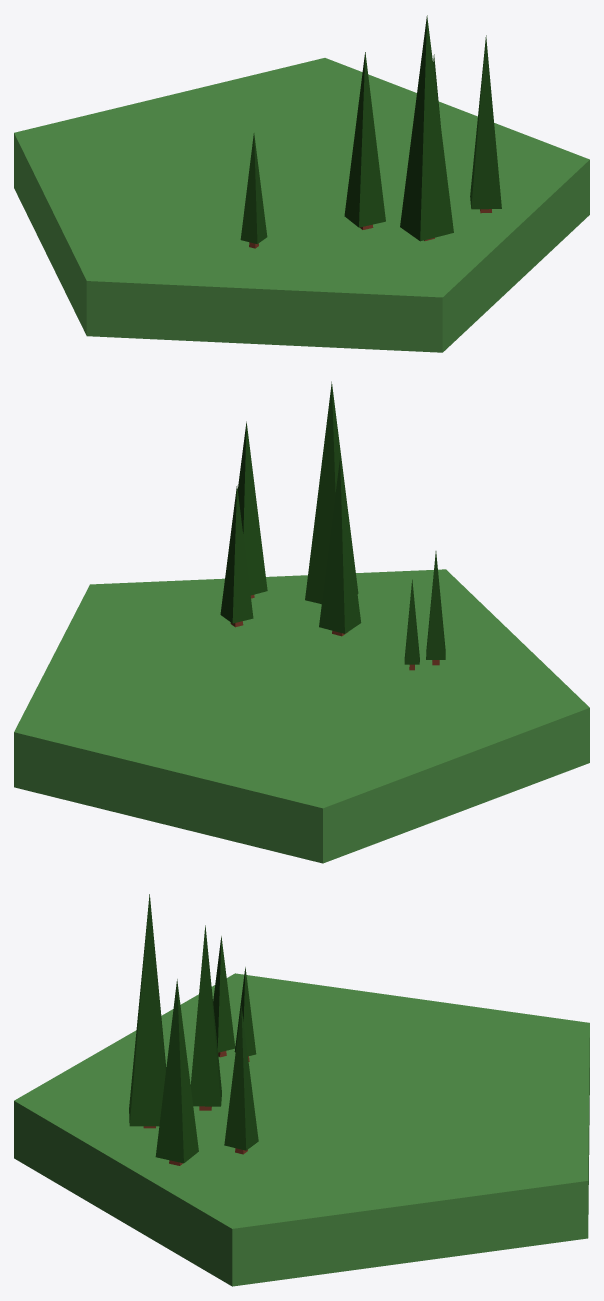
Rendered from Planet_Green_Pentagon (1).fbx.
3 views of the same model, one above another, from view 1: azimuth 30°, elevation 25°; view 2: azimuth 150°, elevation 25°; view 3: azimuth 270°, elevation 25° (orthographic). The views are drawn at different scales.
Parts seen in each view (by area): view 1: polySurface10, pCube44, pCube40, pCube41, pCube34; view 2: polySurface10, pCube40, pCube44, pCube41, pCube37, pCube34, pCube36; view 3: polySurface10, pCube44, pCube41, pCube40, pCube37, pCube34, pCube36.
Boxes of the visible parts, bbox=[...] form: polySurface10: bbox=[14, 58, 589, 352]; pCube44: bbox=[400, 15, 453, 241]; pCube40: bbox=[344, 52, 385, 227]; pCube41: bbox=[470, 35, 501, 209]; pCube34: bbox=[240, 133, 267, 244]; polySurface10: bbox=[14, 569, 589, 863]; pCube40: bbox=[319, 457, 361, 633]; pCube44: bbox=[305, 381, 358, 603]; pCube41: bbox=[237, 421, 267, 595]; pCube37: bbox=[220, 485, 253, 623]; pCube34: bbox=[426, 551, 445, 659]; pCube36: bbox=[404, 579, 419, 664]; polySurface10: bbox=[14, 973, 589, 1286]; pCube44: bbox=[129, 894, 166, 1126]; pCube41: bbox=[155, 979, 198, 1163]; pCube40: bbox=[190, 925, 221, 1106]; pCube37: bbox=[224, 1006, 258, 1150]; pCube34: bbox=[213, 936, 235, 1052]; pCube36: bbox=[234, 967, 256, 1056].
Bounding box in the file's own units: 5.08 × 2.7 × 4.84.
